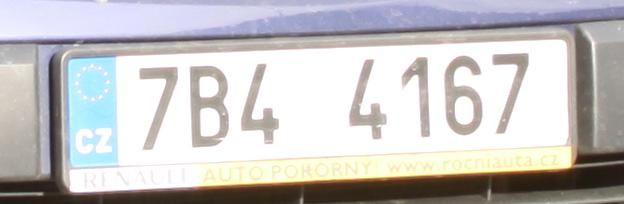1: (402, 57, 431, 138)
4: (349, 59, 385, 140), (242, 65, 278, 144)
6: (443, 56, 482, 136)
7: (139, 68, 178, 151), (490, 53, 530, 132)
B: (189, 67, 230, 146)
